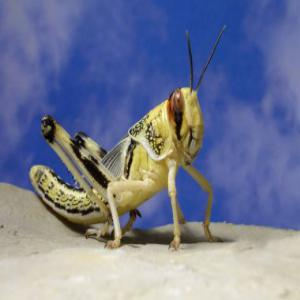locust: (34, 72, 215, 236)
